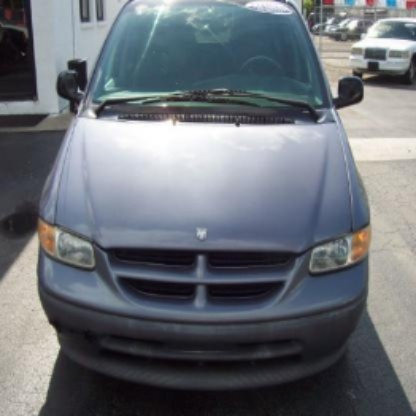Vehicle: (28, 1, 383, 397)
